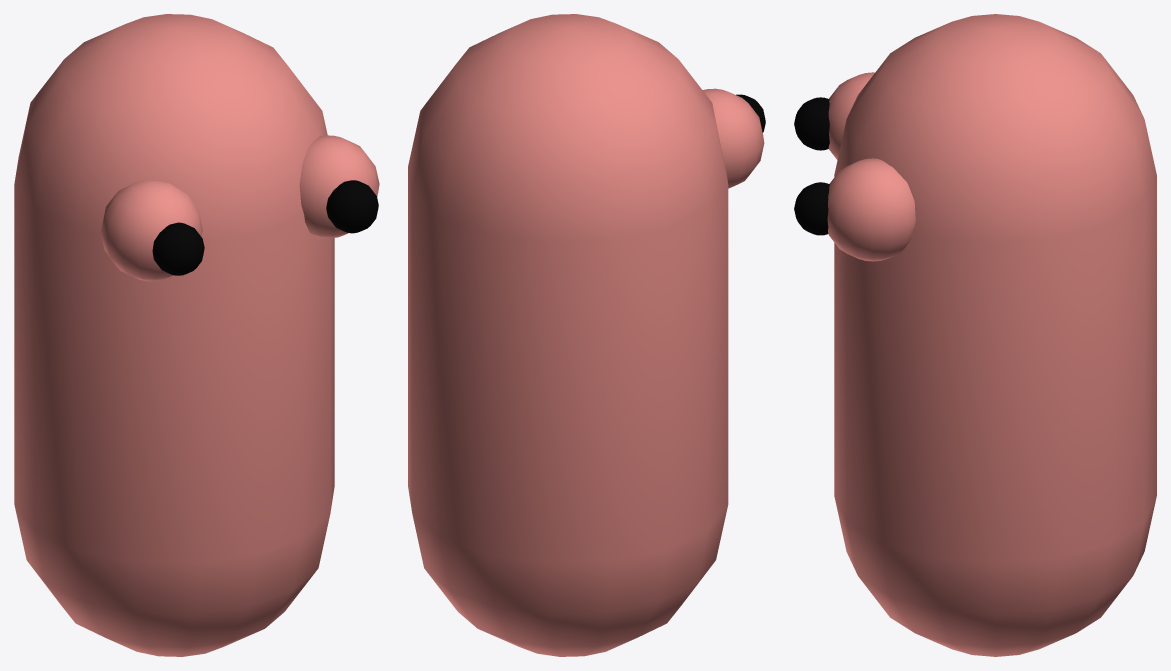
File: testCapsule.fbx
3 views of the same model, side by side, from view 1: azimuth 30°, elevation 25°; view 2: azimuth 150°, elevation 25°; view 3: azimuth 270°, elevation 25° (orthographic).
Visible parts, largest first — view 1: Sphere; view 2: Sphere; view 3: Sphere.
Part boxes in pixels (x1,y1,x2,y2): Sphere: (14,14,379,656); Sphere: (408,14,765,656); Sphere: (794,14,1156,656).
Bounding box in the file's own units: 200 × 419 × 225.
